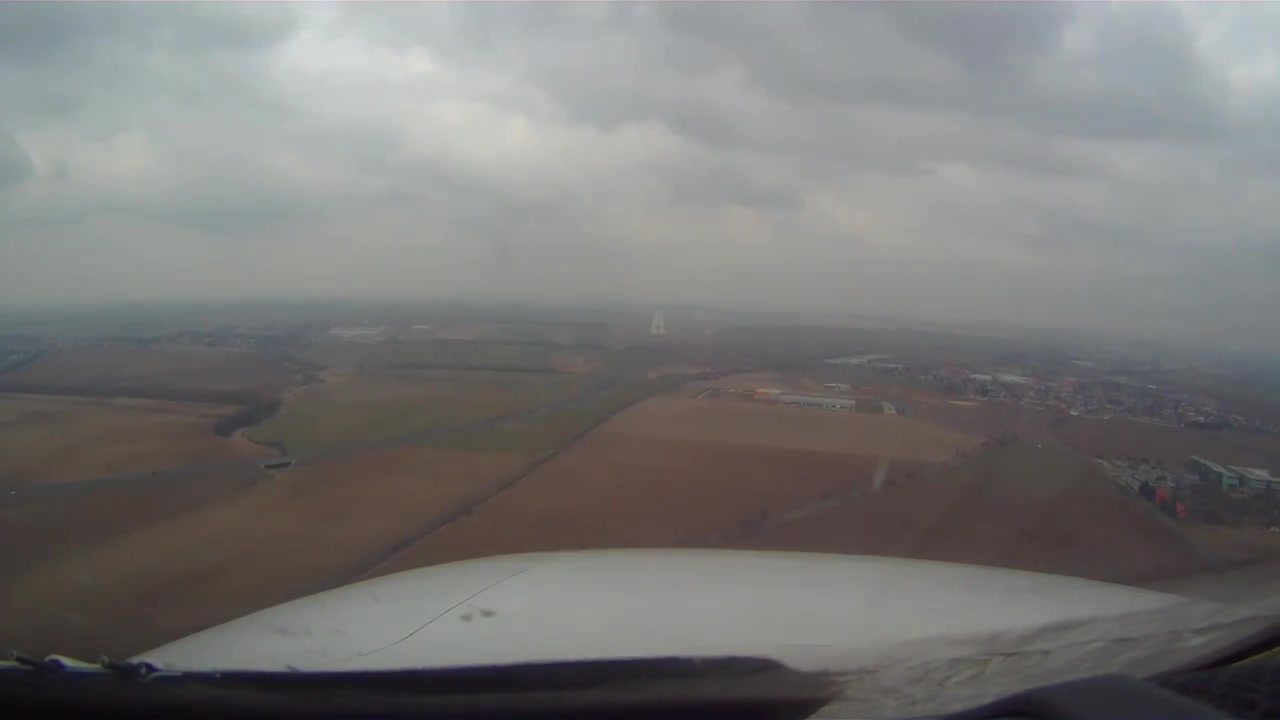runway: (649, 306, 669, 337)
